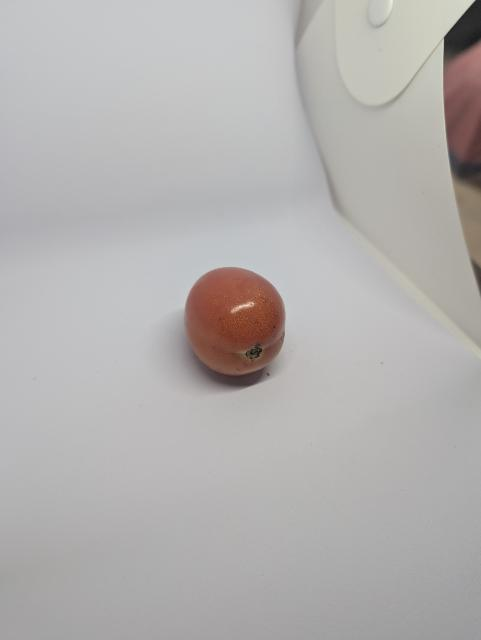red: (173, 259, 303, 394)
